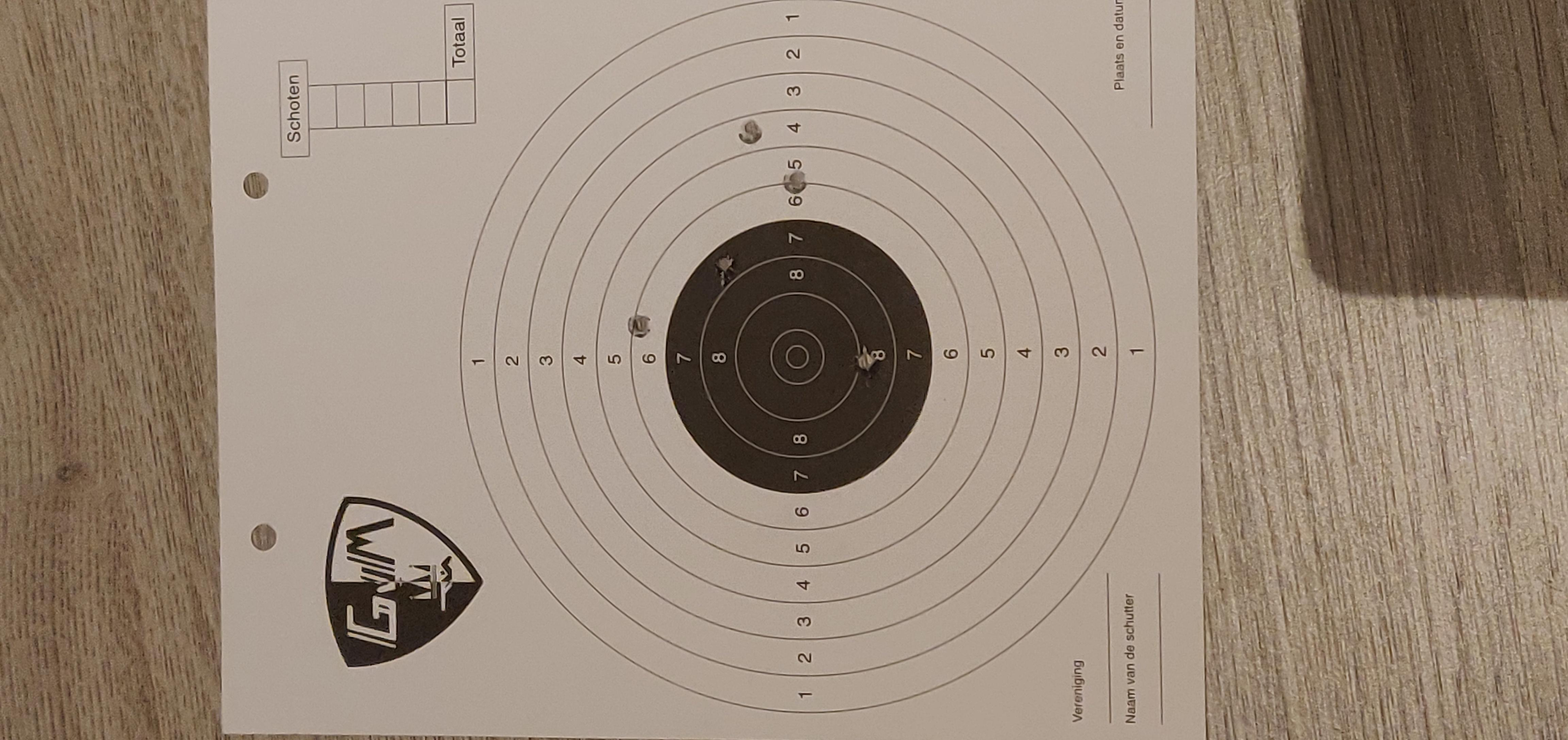hole: (801, 590, 834, 626), (688, 357, 716, 394), (758, 542, 787, 576), (831, 454, 857, 488), (915, 400, 943, 428)
